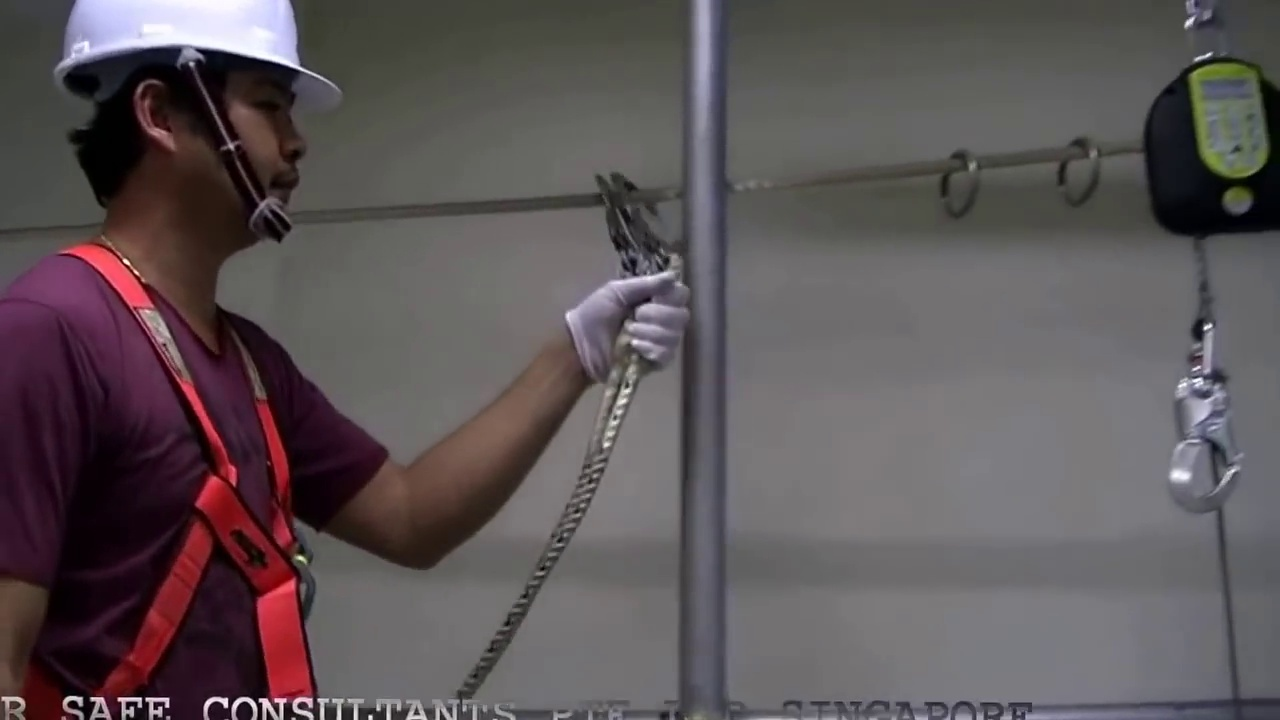harness: (76, 248, 307, 687)
helmet: (58, 2, 334, 88)
hook: (591, 164, 682, 267)
leash: (492, 466, 606, 699)
